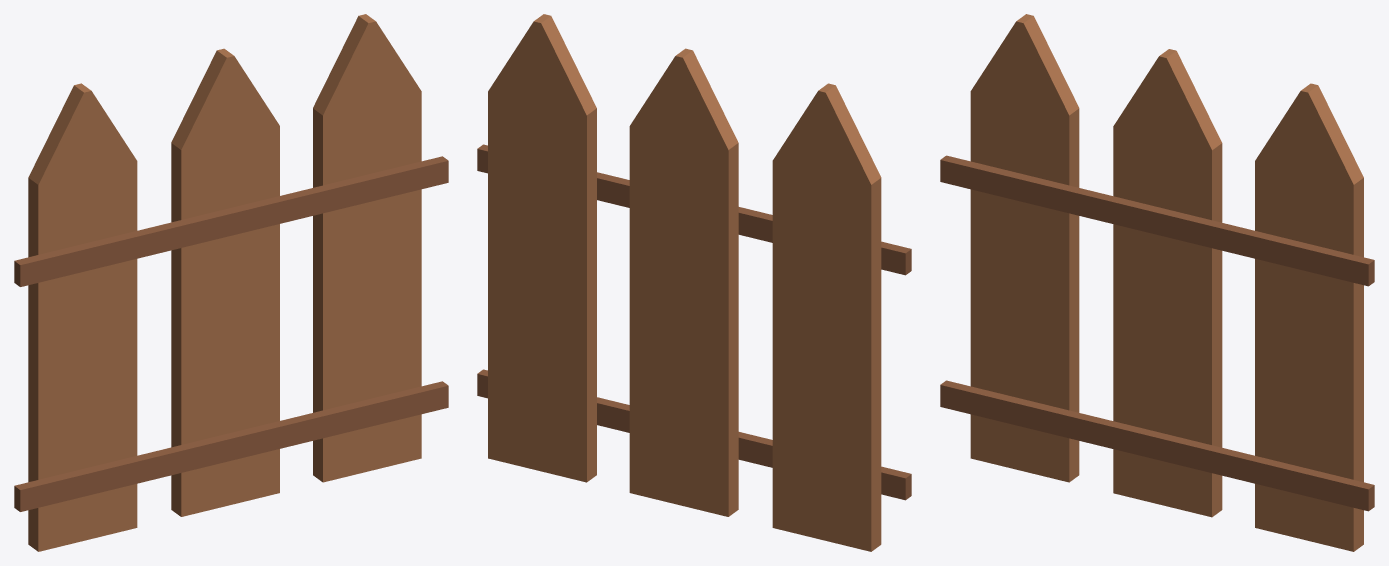
File: Fence.FBX
The picture shows the model from 3 angles, left to right: view 1: azimuth 30°, elevation 25°; view 2: azimuth 150°, elevation 25°; view 3: azimuth 330°, elevation 25°; orthographic projection.
Parts seen in each view (by area): view 1: Object010; view 2: Object010; view 3: Object010.
Boxes of the visible parts, x1=… form: Object010: x1=14, y1=14, x2=448, y2=551; Object010: x1=477, y1=14, x2=911, y2=551; Object010: x1=940, y1=14, x2=1374, y2=551.
Size of the model in its own units: 41.7 by 41.69 by 2.73.
1 material, 1 textured.
